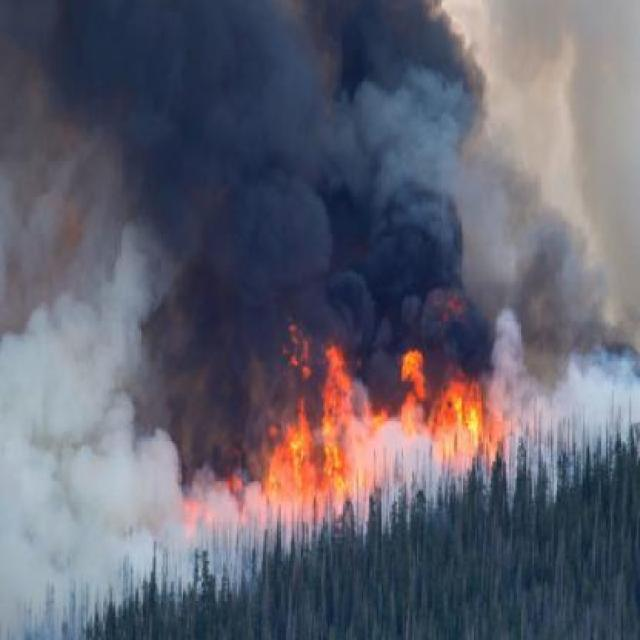Fire: (190, 330, 508, 532)
